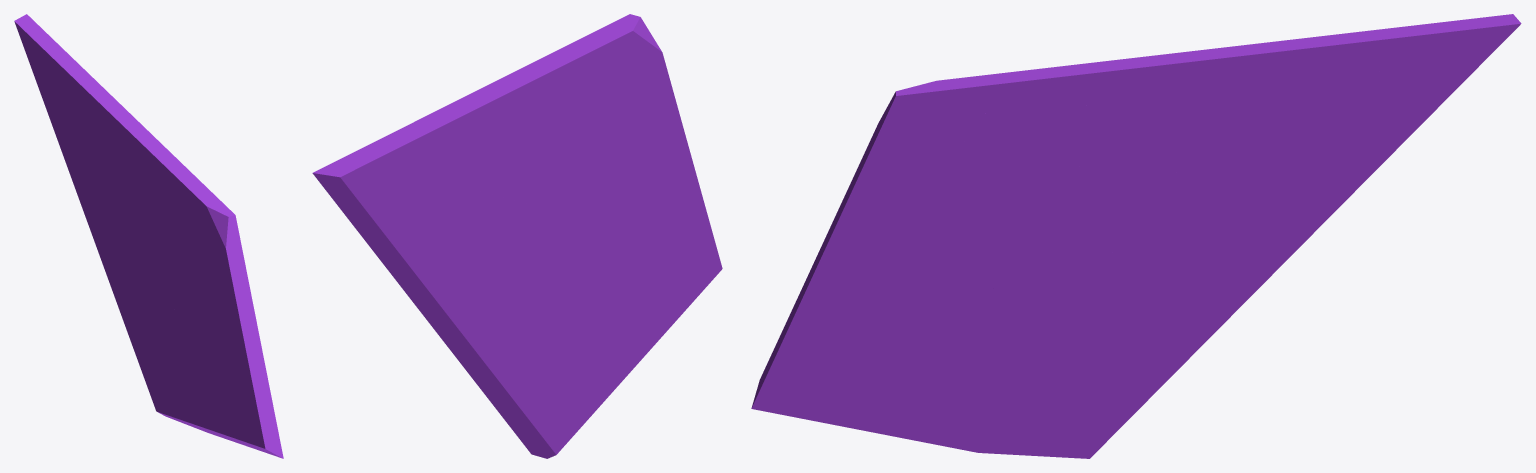
File: Window_12_7_chunks.fbx
3 renders of one model, left to right at view 1: azimuth 30°, elevation 25°; view 2: azimuth 150°, elevation 25°; view 3: azimuth 270°, elevation 25°, orthographic. The views are drawn at different scales.
Visible parts, largest first — view 1: Window_12_7_2, Window_12_7_4, Window_12_7_1, Window_12_7_7, Window_12_7_3, Window_12_7_6, Window_12_7_8, Window_12_7_9, Window_12_7_0; view 2: Window_12_7_4, Window_12_7_2, Window_12_7_1, Window_12_7_7, Window_12_7_3, Window_12_7_6, Window_12_7_8, Window_12_7_0, Window_12_7_9; view 3: Window_12_7_2, Window_12_7_1, Window_12_7_4, Window_12_7_7, Window_12_7_3, Window_12_7_8, Window_12_7_9, Window_12_7_5.
Part boxes in pixels (left/top/right/bottom): Window_12_7_2: left=185, top=199, right=283, bottom=458; Window_12_7_4: left=14, top=14, right=140, bottom=289; Window_12_7_1: left=107, top=275, right=245, bottom=445; Window_12_7_7: left=34, top=34, right=154, bottom=194; Window_12_7_3: left=138, top=200, right=217, bottom=303; Window_12_7_6: left=141, top=143, right=201, bottom=207; Window_12_7_8: left=123, top=172, right=176, bottom=220; Window_12_7_9: left=147, top=138, right=218, bottom=199; Window_12_7_0: left=172, top=294, right=210, bottom=389; Window_12_7_4: left=312, top=157, right=532, bottom=358; Window_12_7_2: left=601, top=14, right=722, bottom=336; Window_12_7_1: left=452, top=257, right=661, bottom=458; Window_12_7_7: left=343, top=75, right=533, bottom=198; Window_12_7_3: left=529, top=27, right=631, bottom=304; Window_12_7_6: left=531, top=34, right=622, bottom=123; Window_12_7_8: left=506, top=97, right=588, bottom=204; Window_12_7_0: left=580, top=212, right=638, bottom=302; Window_12_7_9: left=508, top=26, right=620, bottom=77; Window_12_7_2: left=751, top=80, right=1012, bottom=430; Window_12_7_1: left=863, top=267, right=1245, bottom=458; Window_12_7_4: left=1130, top=14, right=1521, bottom=301; Window_12_7_7: left=1125, top=21, right=1460, bottom=164; Window_12_7_3: left=939, top=78, right=1123, bottom=283; Window_12_7_8: left=995, top=100, right=1190, bottom=182; Window_12_7_9: left=944, top=61, right=1136, bottom=118; Window_12_7_5: left=1078, top=164, right=1155, bottom=284.
Size of the model in its own units: 27.2 by 491 by 779.
